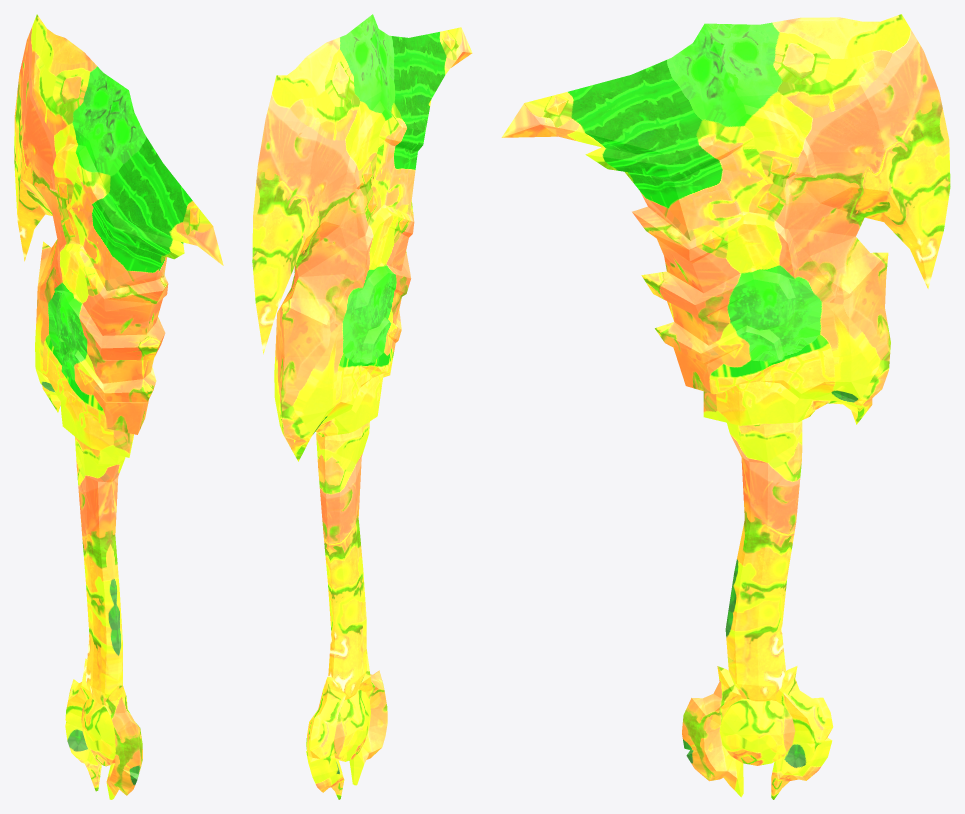
Rendered from LegionSword.fbx.
3 renders of one model, left to right at view 1: azimuth 30°, elevation 25°; view 2: azimuth 150°, elevation 25°; view 3: azimuth 270°, elevation 25°, orthographic. The views are drawn at different scales.
Visible parts, largest first — view 1: Legion_Weapon_Mesh.mo; view 2: Legion_Weapon_Mesh.mo; view 3: Legion_Weapon_Mesh.mo.
Part boxes in pixels (x1,y1,x2,y2): Legion_Weapon_Mesh.mo: (14, 14, 223, 799); Legion_Weapon_Mesh.mo: (252, 14, 472, 799); Legion_Weapon_Mesh.mo: (501, 14, 950, 799).
Size of the model in its own units: 18.15 by 169 by 87.73.
